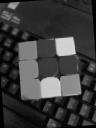rubik: (17, 36, 82, 100)
